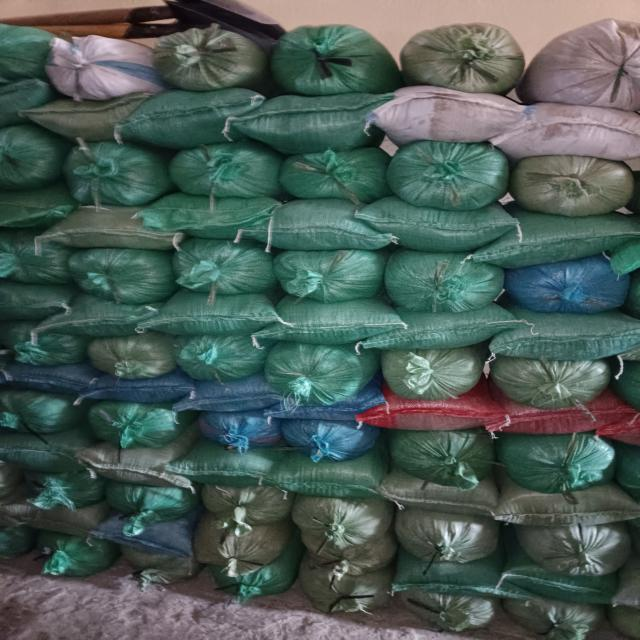Bistay sand: (491, 205, 640, 261), (506, 433, 631, 499), (270, 25, 389, 92), (538, 23, 640, 101), (401, 27, 526, 86), (513, 152, 628, 208), (387, 93, 517, 142), (246, 90, 376, 139), (511, 106, 640, 155), (391, 146, 505, 201), (54, 29, 145, 96), (377, 201, 509, 246), (257, 200, 389, 245), (133, 89, 249, 140), (157, 30, 251, 88), (71, 147, 165, 205), (395, 429, 488, 487), (270, 345, 358, 406), (174, 145, 284, 193), (503, 353, 606, 404), (177, 240, 271, 293), (285, 250, 379, 303), (72, 252, 166, 304), (400, 254, 494, 306), (521, 263, 615, 315), (279, 147, 379, 195), (507, 321, 636, 357), (389, 305, 518, 341), (267, 306, 396, 342), (159, 297, 288, 333), (91, 398, 181, 448), (151, 200, 278, 233), (48, 213, 175, 246), (369, 396, 494, 429), (391, 352, 475, 401), (512, 403, 636, 436), (187, 479, 280, 523), (299, 500, 392, 544), (15, 469, 108, 512), (100, 479, 193, 522), (402, 516, 495, 559), (526, 523, 619, 566), (39, 299, 146, 335), (30, 102, 143, 135), (305, 558, 380, 606), (502, 496, 640, 522), (285, 421, 370, 463), (202, 517, 276, 565), (229, 549, 303, 597), (1, 132, 66, 185), (1, 237, 64, 288), (385, 485, 503, 512), (274, 468, 392, 495), (164, 455, 282, 482), (81, 452, 199, 479), (93, 334, 167, 377), (183, 334, 256, 377), (1, 387, 70, 432), (270, 396, 382, 423), (502, 575, 626, 599), (1, 510, 107, 538), (197, 412, 276, 448), (393, 571, 516, 594), (23, 541, 103, 576), (108, 518, 187, 553), (135, 547, 214, 582), (178, 383, 275, 410), (91, 375, 188, 402), (1, 188, 64, 226), (16, 329, 74, 370), (1, 23, 50, 71), (8, 369, 92, 396), (1, 439, 74, 470)
